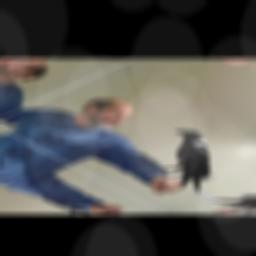Crow: (118, 124, 256, 196)
